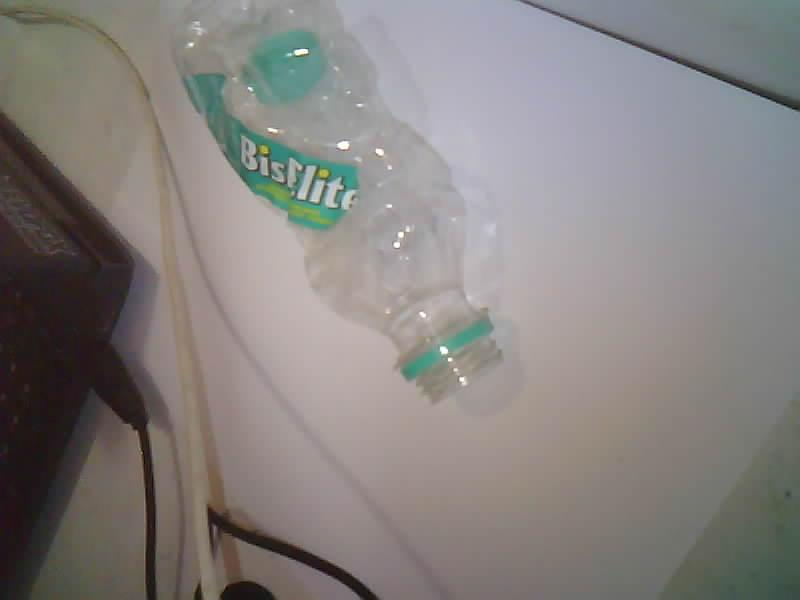non-biodegradable: (173, 0, 501, 400)
